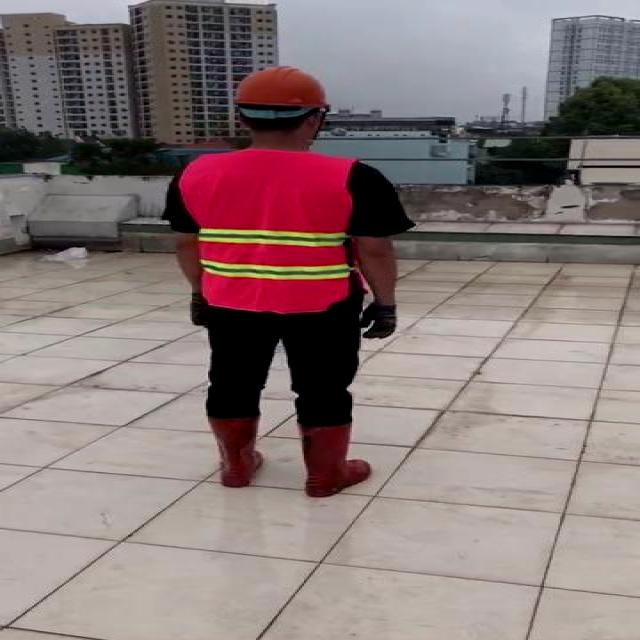boots: (296, 420, 371, 498), (204, 412, 268, 489)
hand_glove: (362, 299, 401, 342)
head_helmet: (224, 62, 336, 114)
person: (165, 59, 409, 511)
vest: (187, 149, 352, 314)
